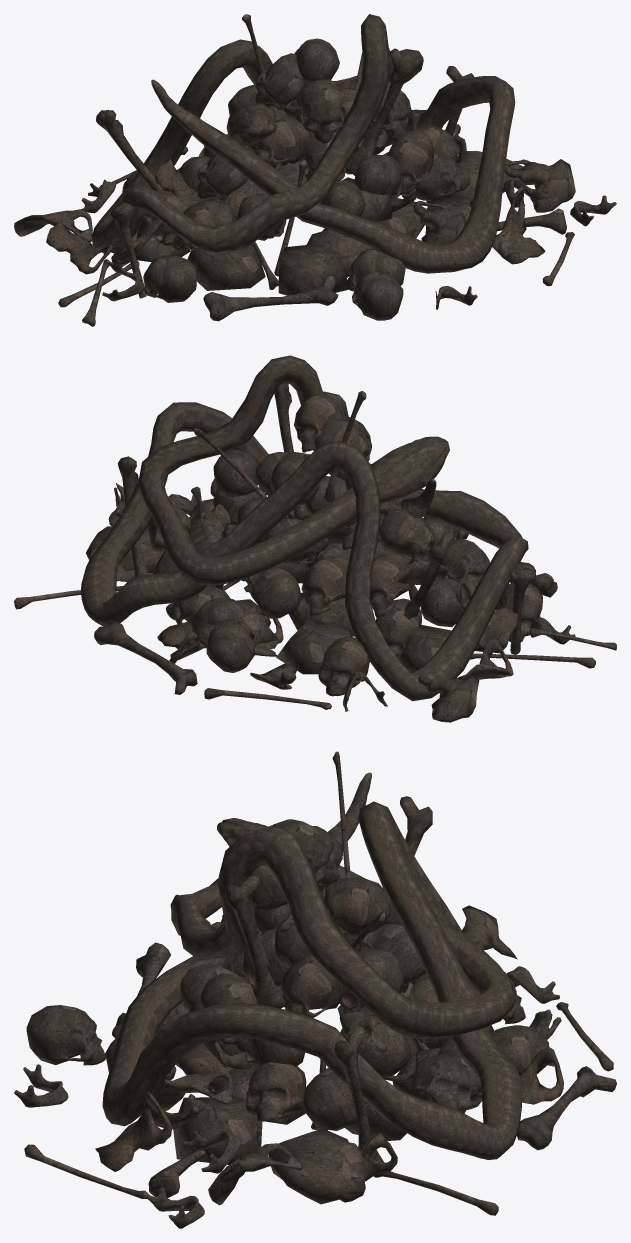
File: aeg277_096.glb
3 renders of one model, top to bottom at view 1: azimuth 30°, elevation 25°; view 2: azimuth 150°, elevation 25°; view 3: azimuth 270°, elevation 25°, orthographic. The views are drawn at different scales.
Visible parts, largest first — view 1: mesh[2], mesh[0], mesh[1]; view 2: mesh[2], mesh[0], mesh[1]; view 3: mesh[2], mesh[0], mesh[1].
Boxes of the visible parts, bbox=[...] form: mesh[2]: bbox=[14, 14, 616, 326]; mesh[0]: bbox=[92, 14, 515, 273]; mesh[1]: bbox=[110, 151, 522, 295]; mesh[2]: bbox=[14, 383, 616, 722]; mesh[0]: bbox=[81, 355, 528, 701]; mesh[1]: bbox=[86, 521, 498, 674]; mesh[2]: bbox=[14, 751, 616, 1228]; mesh[0]: bbox=[102, 772, 521, 1159]; mesh[1]: bbox=[157, 986, 494, 1204].
Size of the model in its own units: 2.54 by 1.15 by 2.04.
Materials: 3 (3 with a texture image).
